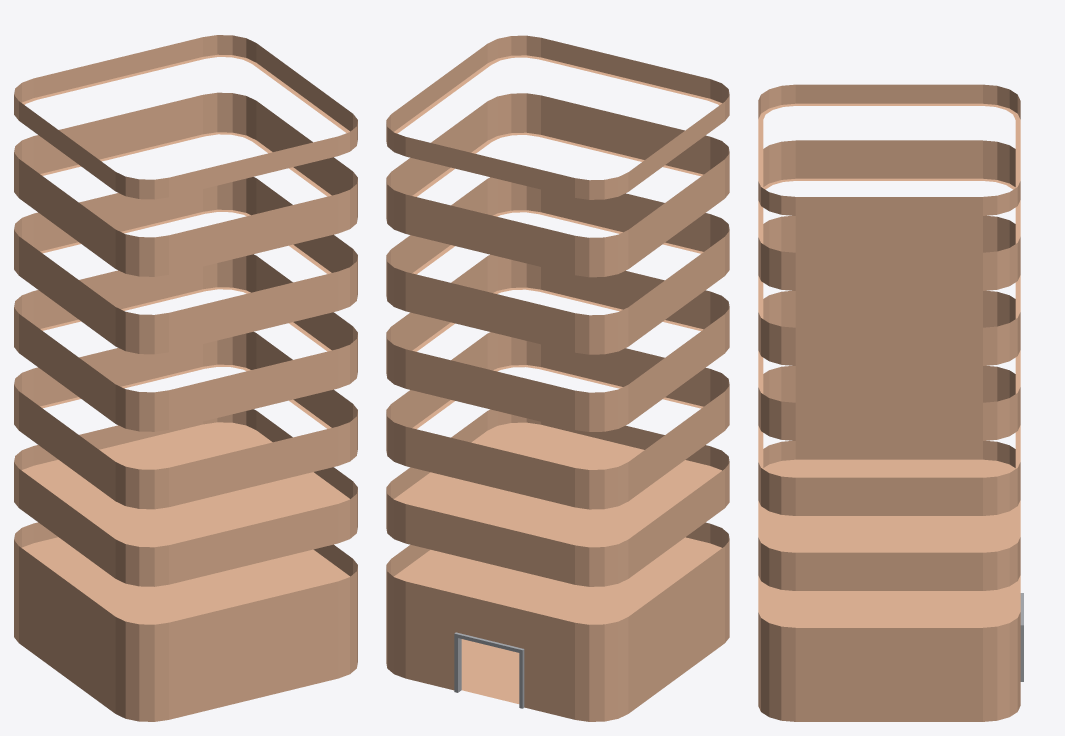
Rendered from Bld_C_high_L2_C.fbx.
3 renders of one model, left to right at view 1: azimuth 30°, elevation 25°; view 2: azimuth 150°, elevation 25°; view 3: azimuth 270°, elevation 25°, orthographic. The views are drawn at different scales.
Visible parts, largest first — view 1: Bld_C_high_L2_C_LOD0; view 2: Bld_C_high_L2_C_LOD0; view 3: Bld_C_high_L2_C_LOD0.
Part boxes in pixels (left/top/right/bottom): Bld_C_high_L2_C_LOD0: left=14, top=35, right=357, bottom=721; Bld_C_high_L2_C_LOD0: left=386, top=35, right=729, bottom=721; Bld_C_high_L2_C_LOD0: left=758, top=84, right=1023, bottom=721.
Size of what is drawn, in the model's own units: 1300 by 3385 by 1432.
Materials: 1 (1 with a texture image).
